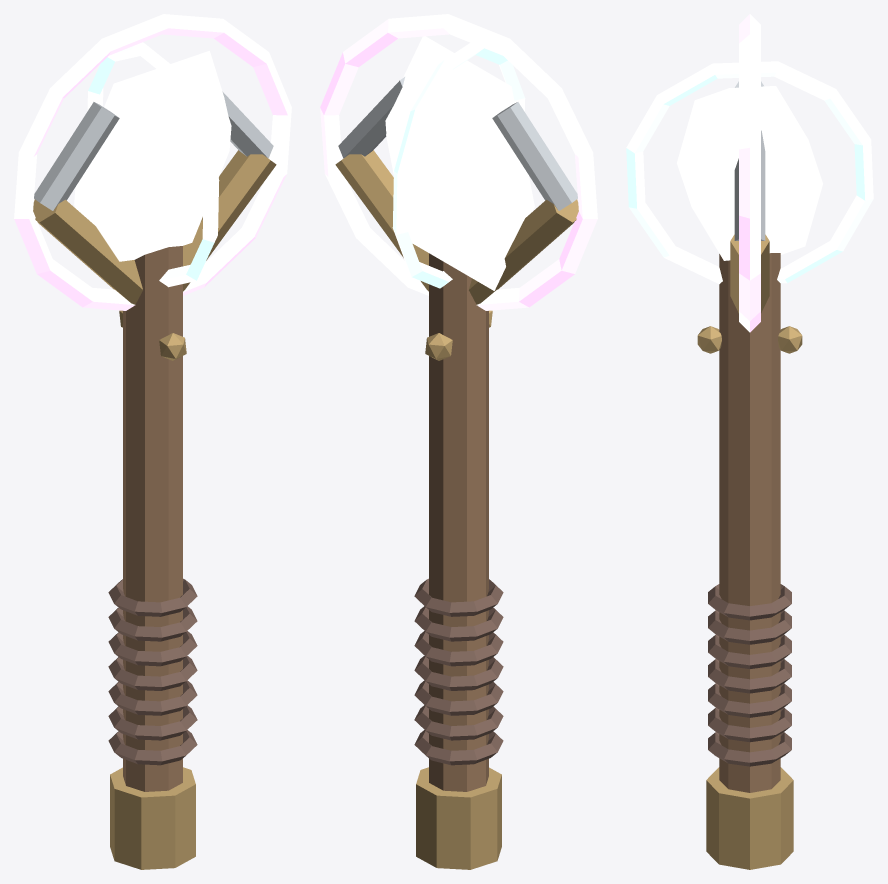
The model's file is arcane_staff.glb.
The picture shows the model from 3 angles, left to right: view 1: azimuth 30°, elevation 25°; view 2: azimuth 150°, elevation 25°; view 3: azimuth 270°, elevation 25°; orthographic projection.
Visible parts, largest first — view 1: StaffShaft, CrystalCore, RuneRingA, LowerFerrule.006, RuneRingB, CageArm_-1, CageReturn_-1, CageArm_1, GripWrap_6.006, GripWrap_3.020, GripWrap_0.020, GripWrap_4.020 (+5 smaller); view 2: StaffShaft, CrystalCore, RuneRingA, LowerFerrule.006, RuneRingB, CageReturn_-1, CageArm_-1, CageArm_1, CageReturn_1, GripWrap_6.006, GripWrap_3.020, GripWrap_0.020 (+5 smaller); view 3: StaffShaft, CrystalCore, RuneRingB, LowerFerrule.006, RuneRingA, GripWrap_6.006, GripWrap_4.020, GripWrap_0.020, GripWrap_1.020, GripWrap_2.020, GripWrap_3.020, GripWrap_5.012 (+4 smaller).
Part boxes in pixels (left/top/right/bottom): StaffShaft: left=123, top=246, right=182, bottom=791; CrystalCore: left=74, top=51, right=231, bottom=275; RuneRingA: left=14, top=14, right=291, bottom=310; LowerFerrule.006: left=110, top=767, right=195, bottom=869; RuneRingB: left=87, top=42, right=219, bottom=287; CageArm_-1: left=33, top=199, right=142, bottom=305; CageReturn_-1: left=34, top=102, right=119, bottom=210; CageArm_1: left=183, top=150, right=276, bottom=291; GripWrap_6.006: left=108, top=578, right=197, bottom=616; GripWrap_3.020: left=108, top=655, right=197, bottom=690; GripWrap_0.020: left=108, top=730, right=197, bottom=765; GripWrap_4.020: left=108, top=631, right=197, bottom=666; StaffShaft: left=429, top=253, right=488, bottom=791; CrystalCore: left=385, top=36, right=534, bottom=290; RuneRingA: left=320, top=14, right=597, bottom=310; LowerFerrule.006: left=416, top=767, right=501, bottom=869; RuneRingB: left=392, top=43, right=525, bottom=288; CageReturn_-1: left=492, top=102, right=577, bottom=210; CageArm_-1: left=469, top=199, right=578, bottom=305; CageArm_1: left=335, top=150, right=428, bottom=291; CageReturn_1: left=338, top=77, right=404, bottom=158; GripWrap_6.006: left=414, top=578, right=503, bottom=616; GripWrap_3.020: left=414, top=655, right=503, bottom=690; GripWrap_0.020: left=414, top=730, right=503, bottom=765; StaffShaft: left=719, top=253, right=780, bottom=792; CrystalCore: left=677, top=86, right=822, bottom=260; RuneRingB: left=626, top=61, right=873, bottom=284; LowerFerrule.006: left=706, top=767, right=793, bottom=869; RuneRingA: left=739, top=14, right=760, bottom=332; GripWrap_6.006: left=708, top=584, right=791, bottom=620; GripWrap_4.020: left=708, top=634, right=791, bottom=668; GripWrap_0.020: left=708, top=732, right=791, bottom=766; GripWrap_1.020: left=708, top=708, right=791, bottom=742; GripWrap_2.020: left=708, top=683, right=791, bottom=717; GripWrap_3.020: left=708, top=659, right=791, bottom=693; GripWrap_5.012: left=708, top=610, right=791, bottom=644.
Size of the model in its own units: 0.7219 by 2.07 by 0.5656.
